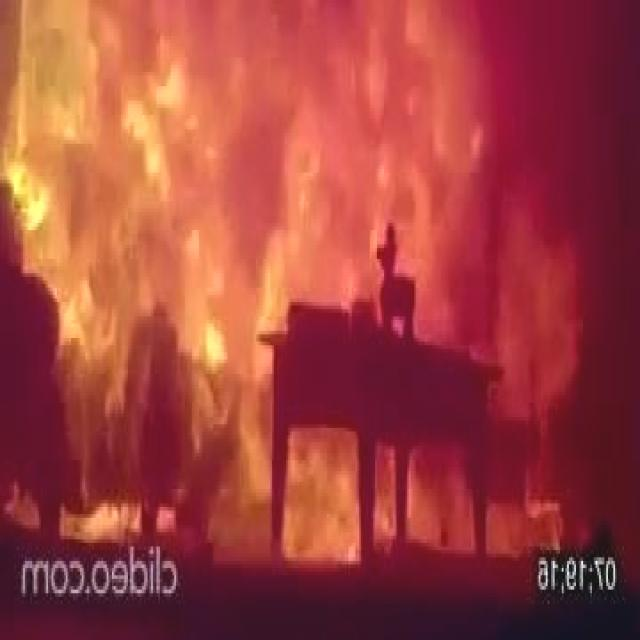fire: (0, 0, 569, 525)
